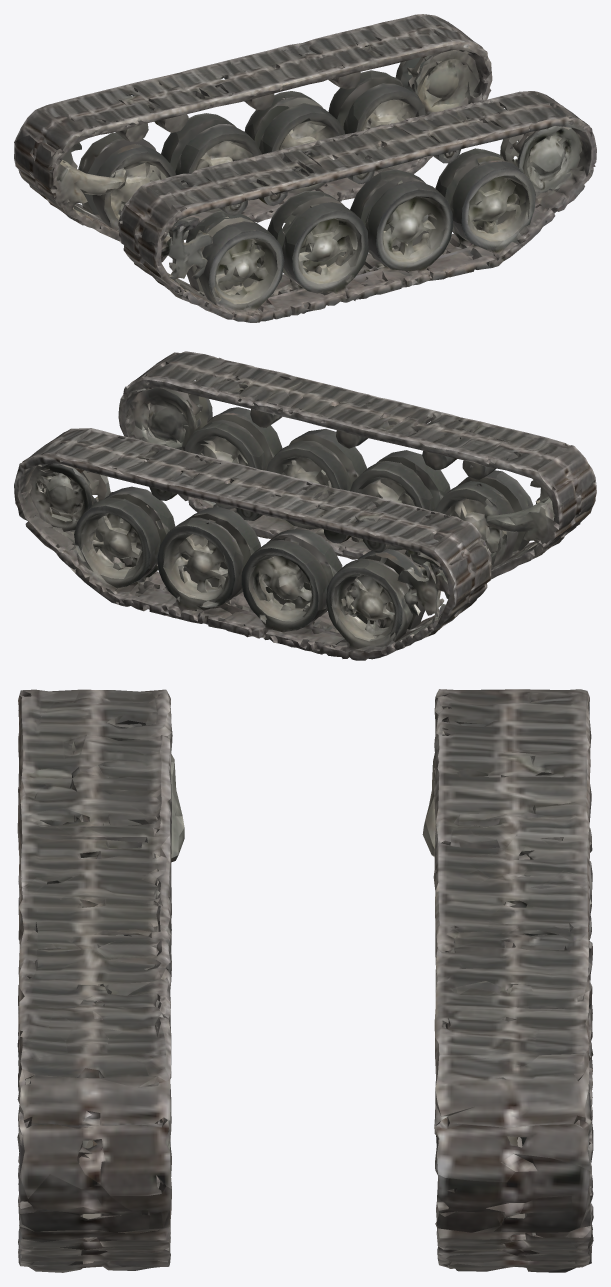
Rendered from main_tracks_only.glb.
3 renders of one model, top to bottom at view 1: azimuth 30°, elevation 25°; view 2: azimuth 150°, elevation 25°; view 3: azimuth 270°, elevation 25°, orthographic. The views are drawn at different scales.
Parts seen in each view (by area): view 1: geometry_0; view 2: geometry_0; view 3: geometry_0.
Boxes of the visible parts, bbox=[...] form: geometry_0: bbox=[14, 14, 596, 322]; geometry_0: bbox=[14, 351, 596, 660]; geometry_0: bbox=[17, 689, 593, 1272].
Bounding box in the file's own units: 1.2 × 0.3532 × 0.674.
Materials: 1 (1 with a texture image).
